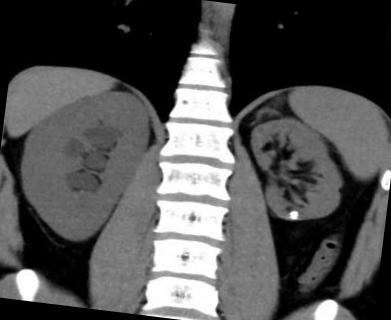Tas_Var: (288, 210, 300, 220)
